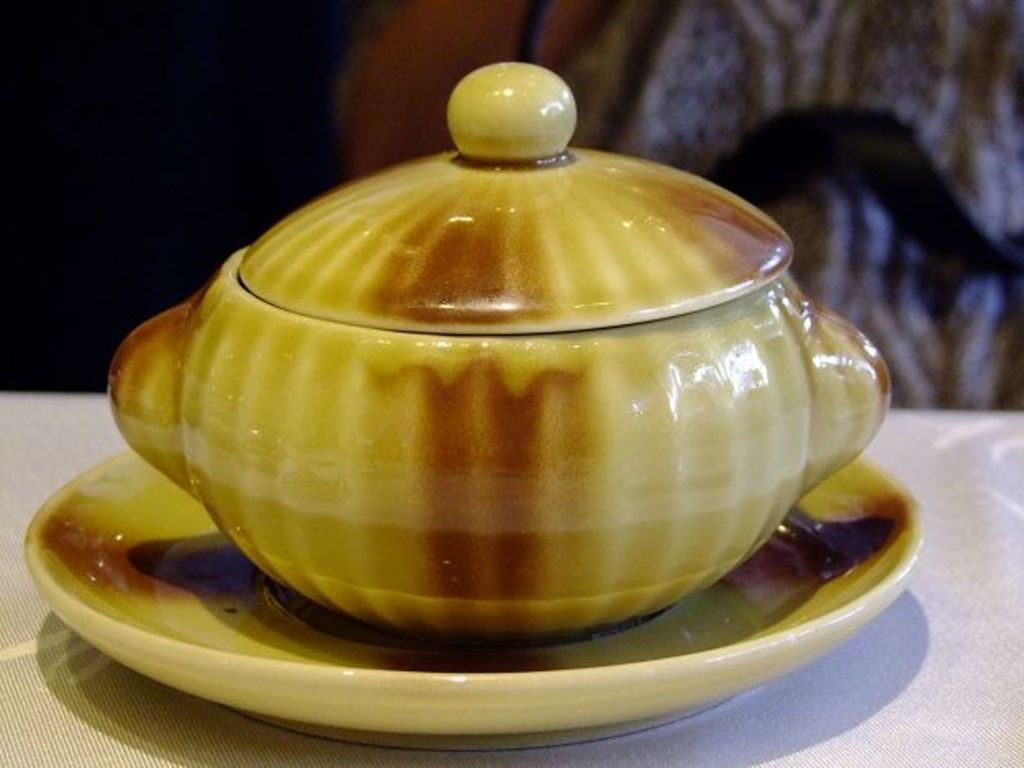plate: (22, 450, 922, 735)
